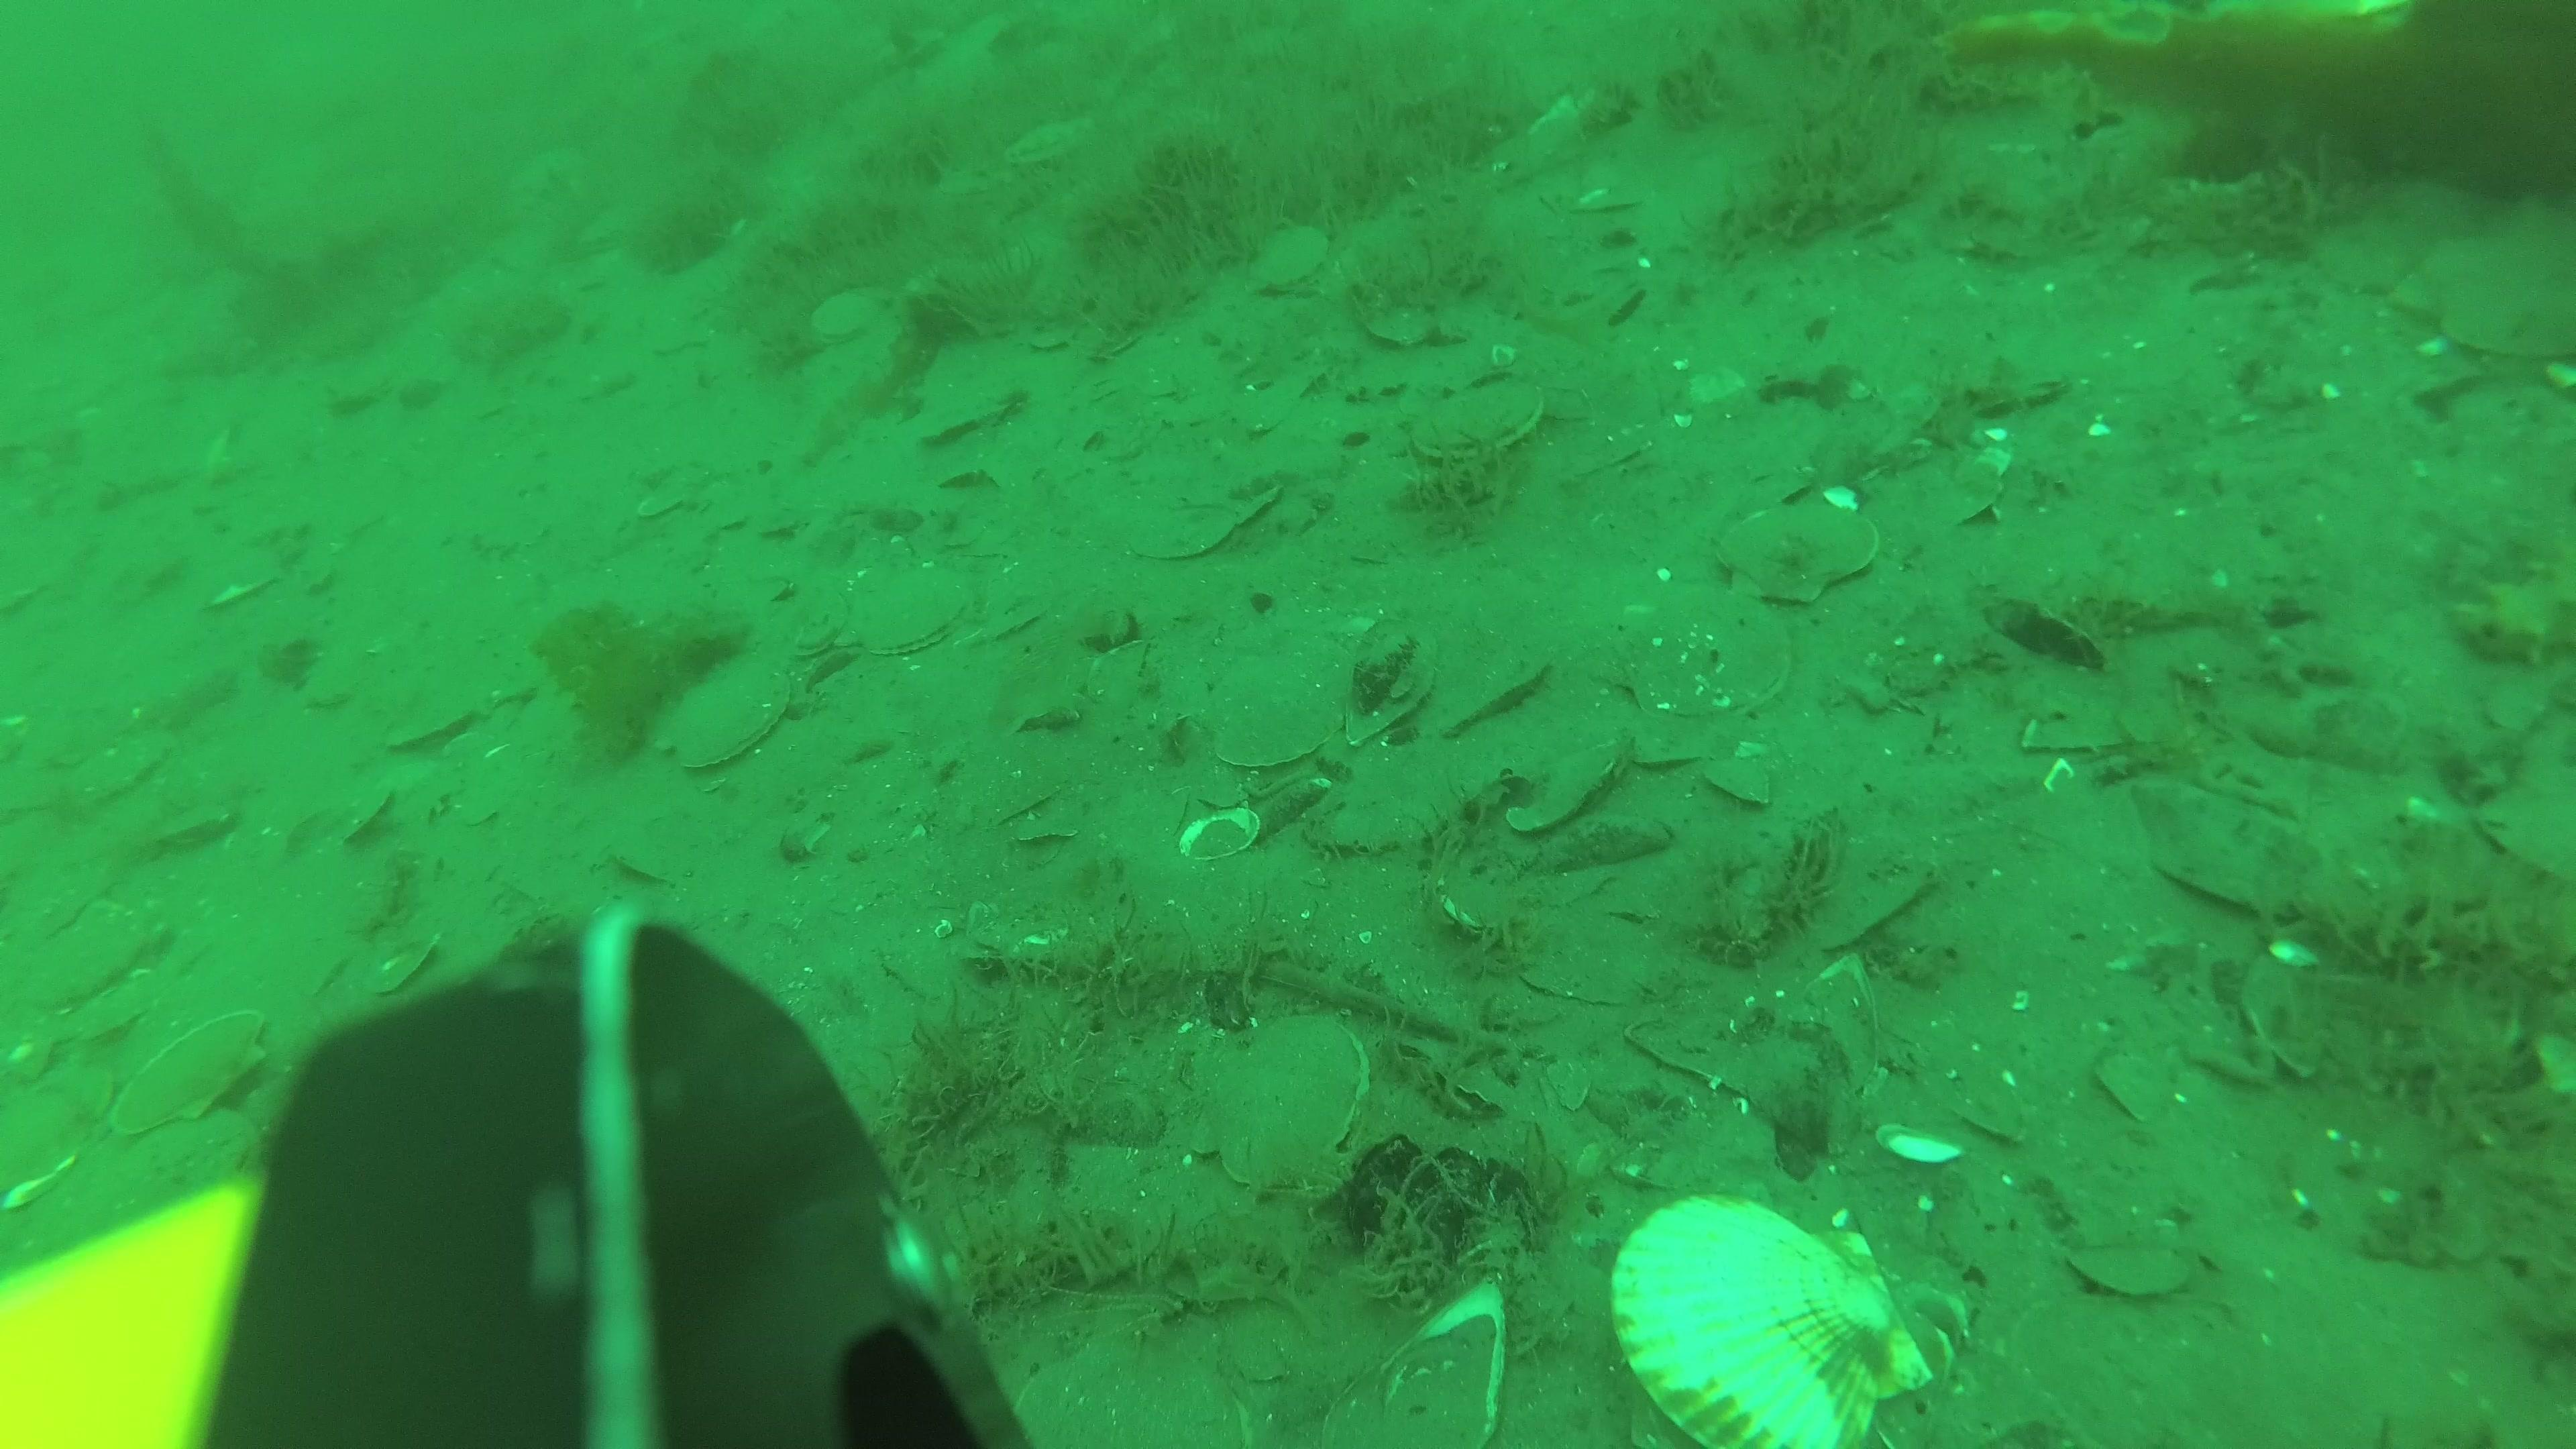scallop: (1608, 1185, 1943, 1449), (1182, 1008, 1376, 1196), (1621, 580, 1805, 725), (2401, 230, 2576, 352), (111, 1008, 272, 1138), (1718, 490, 1882, 609), (1470, 722, 1626, 832), (1196, 656, 1348, 768), (656, 665, 798, 782), (1407, 649, 1564, 745), (835, 559, 982, 660), (1410, 373, 1546, 479), (2074, 1233, 2199, 1304), (1242, 216, 1336, 297), (1697, 747, 1785, 809), (809, 287, 888, 345), (1617, 722, 1697, 778)
